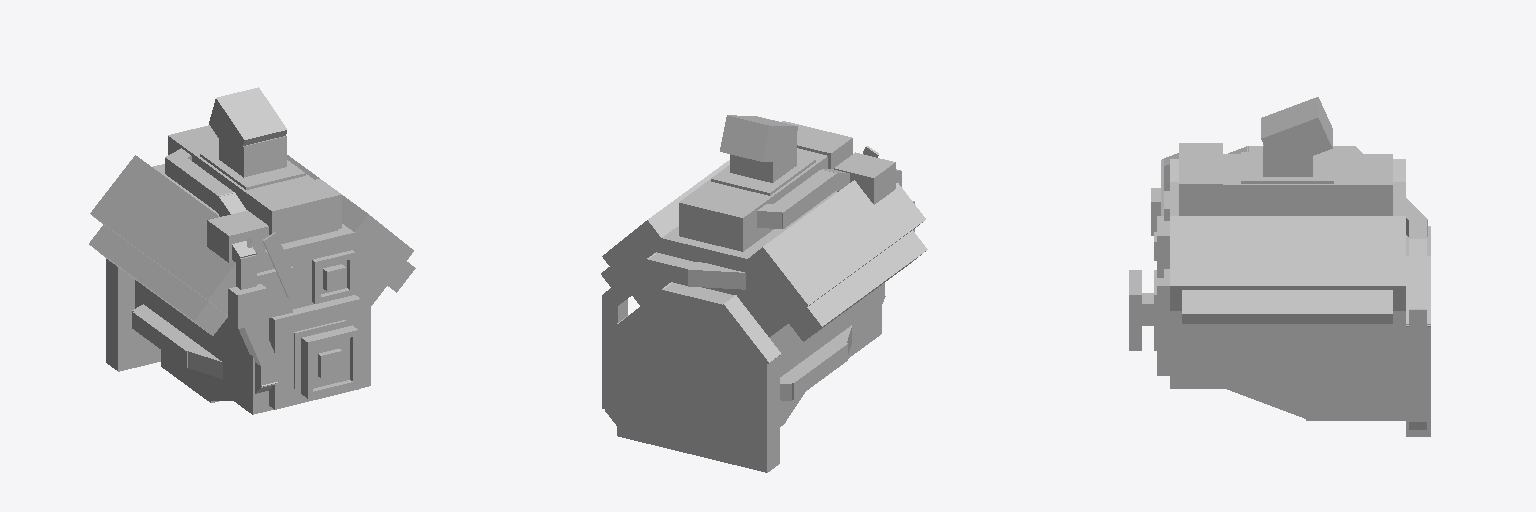
File: enginedetroitdiesel.obj
3 views of the same model, side by side, from view 1: azimuth 30°, elevation 25°; view 2: azimuth 150°, elevation 25°; view 3: azimuth 270°, elevation 25° (orthographic).
Parts seen in each view (by area): view 1: cbdcb106-8e19-6002-6fff-1de15a43ada3.001; view 2: cbdcb106-8e19-6002-6fff-1de15a43ada3.001; view 3: cbdcb106-8e19-6002-6fff-1de15a43ada3.001.
Boxes of the visible parts, x1=… form: cbdcb106-8e19-6002-6fff-1de15a43ada3.001: x1=89, y1=87, x2=415, y2=414; cbdcb106-8e19-6002-6fff-1de15a43ada3.001: x1=601, y1=115, x2=927, y2=472; cbdcb106-8e19-6002-6fff-1de15a43ada3.001: x1=1129, y1=97, x2=1430, y2=436.
Bounding box in the file's own units: 0.598 × 0.7689 × 0.7025.